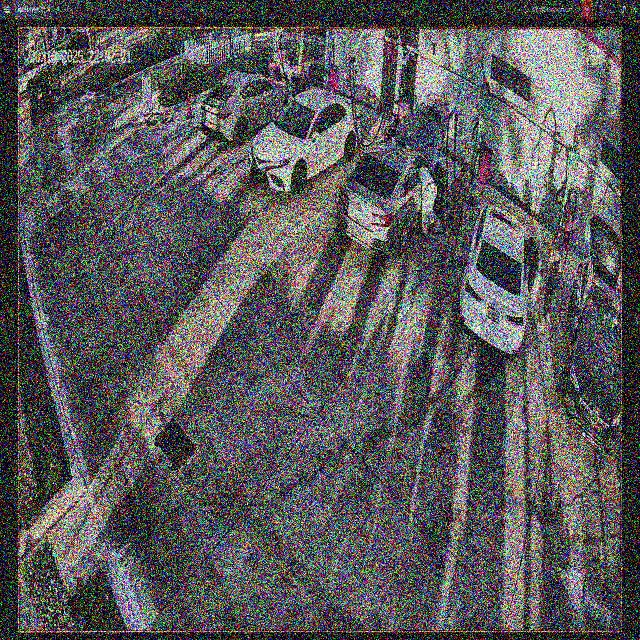Car: (338, 104, 436, 254), (248, 86, 363, 195), (461, 207, 534, 363), (201, 71, 293, 146)
